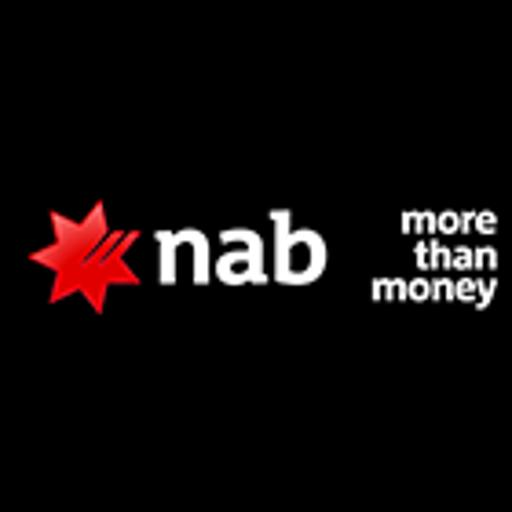National Australia Bank Limited: (0, 187, 512, 325)
